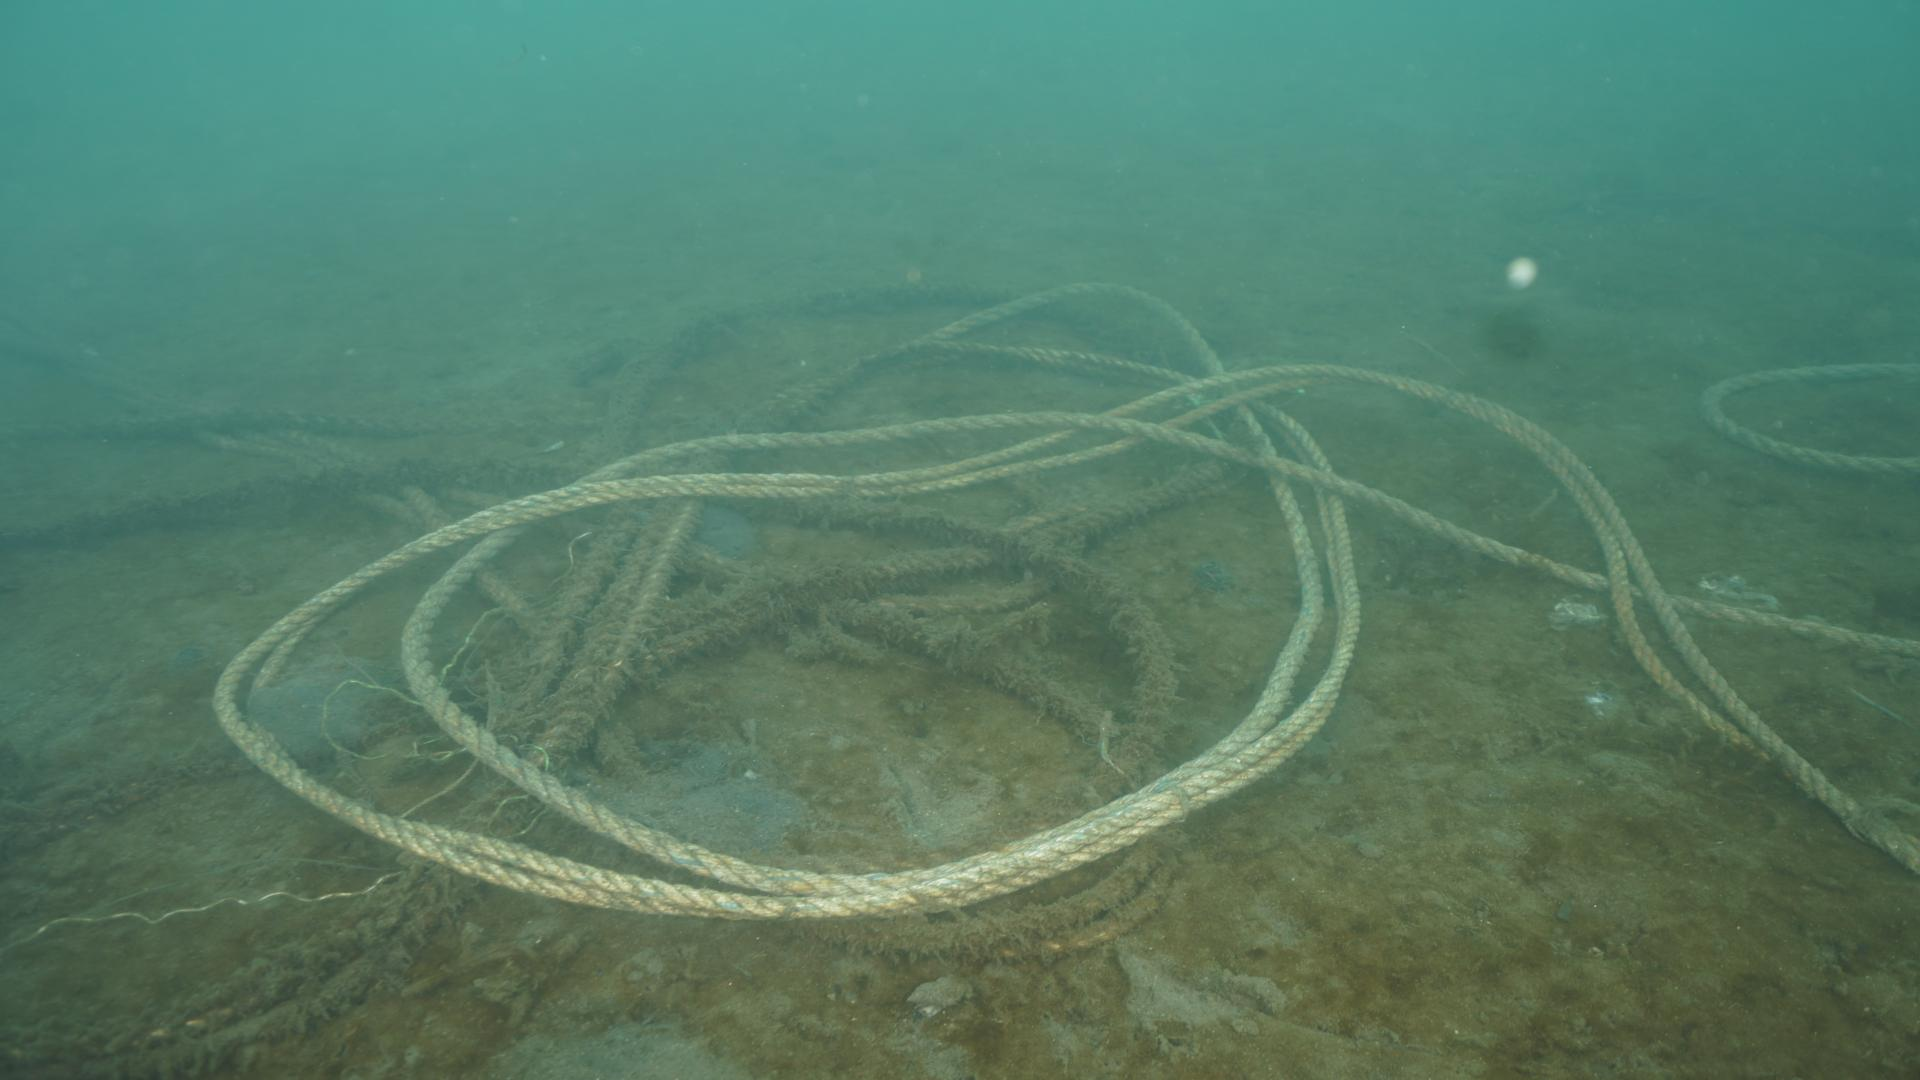bundle of ropes: (0, 255, 1920, 1080)
